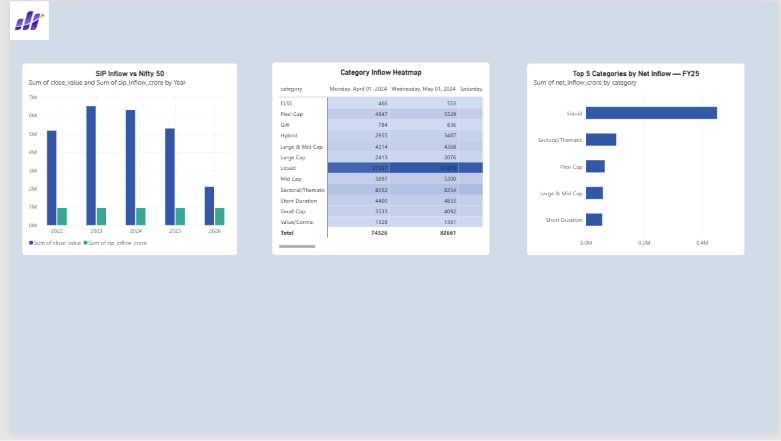

The dashboard page shown, as its layout file describes it:
{"tool":"powerbi","page":{"name":"SIP & Market Trends","canvas":[1920,1080],"ordinal":3},"visuals":[{"type":"lineClusteredColumnComboChart","title":"SIP Inflow vs Nifty 50","fields":{"Category":["benchmark_indices.date.Variation.Date Hierarchy.Year","benchmark_indices.date.Variation.Date Hierarchy.Quarter","benchmark_indices.date.Variation.Date Hierarchy.Month","benchmark_indices.date.Variation.Date Hierarchy.Day"],"Y":["Sum(benchmark_indices.close_value)","Sum(monthly_sip_inflows.sip_inflow_crore)"]},"box":[30,154,538,480],"z":0},{"type":"pivotTable","title":"Category Inflow Heatmap","fields":{"Columns":["category_inflows.month.Variation.Date Hierarchy.Year"],"Rows":["category_inflows.category"],"Values":["Sum(category_inflows.net_inflow_crore)"]},"box":[656,152,544,482],"z":1000},{"type":"clusteredBarChart","title":"Top 5 Categories by Net Inflow — FY25","fields":{"Category":["category_inflows.category"],"Y":["Sum(category_inflows.net_inflow_crore)"]},"box":[1292,154,544,480],"z":2000},{"type":"image","box":[0,0,96.7,96.7],"z":2001}]}

Visuals, with their boxes in screenshot pixels (x1, y1, x2, y2), scaled from the page's 1920x1080 canvas onto the 781x441 screenshot:
"SIP Inflow vs Nifty 50" lineClusteredColumnComboChart: box=[12, 63, 231, 259]
"Category Inflow Heatmap" pivotTable: box=[267, 62, 488, 259]
"Top 5 Categories by Net Inflow — FY25" clusteredBarChart: box=[526, 63, 747, 259]
image: box=[0, 0, 39, 39]
